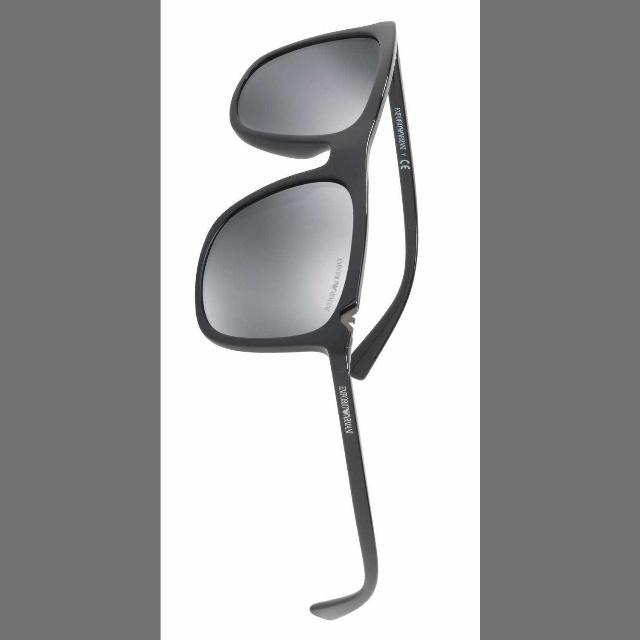Sunglasses: (178, 0, 458, 626)
